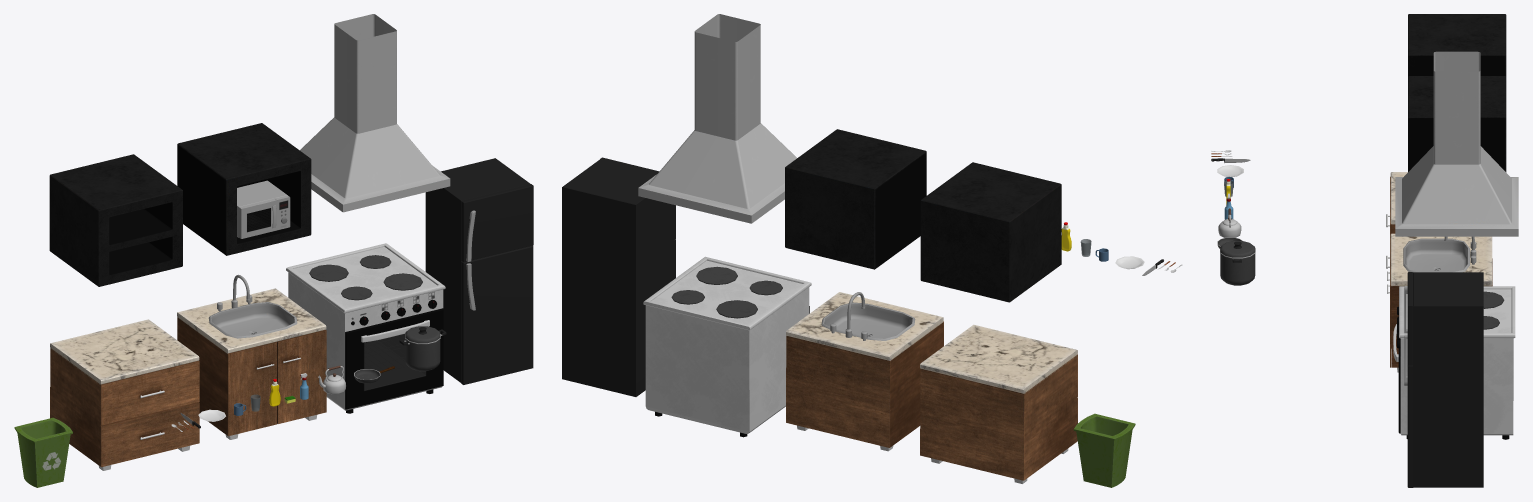
Rendered from CocinaPack.glb.
3 views of the same model, side by side, from view 1: azimuth 30°, elevation 25°; view 2: azimuth 150°, elevation 25°; view 3: azimuth 270°, elevation 25° (orthographic). The views are drawn at different scales.
Parts seen in each view (by area): view 1: Heladera, Mesada, Horno, MesadaConBacha, ExtractorHorno, Estante1, Estante, TachoBasura, Microondas, Olla; view 2: Horno, Heladera, Mesada, MesadaConBacha, ExtractorHorno, Estante1, Estante, TachoBasura; view 3: Heladera, ExtractorHorno, Horno, Estante1, MesadaConBacha, Estante, Olla, Mesada, Pava.
Part boxes in pixels (x1,y1,x2,y2): Heladera: (425, 158, 533, 384); Mesada: (50, 319, 199, 470); Horno: (286, 243, 445, 413); MesadaConBacha: (177, 274, 326, 439); ExtractorHorno: (300, 14, 450, 212); Estante1: (49, 154, 182, 286); Estante: (177, 123, 311, 255); TachoBasura: (14, 417, 72, 487); Microondas: (237, 180, 290, 238); Olla: (399, 326, 446, 371); Horno: (643, 256, 811, 437); Heladera: (562, 157, 675, 396); Mesada: (920, 324, 1077, 483); MesadaConBacha: (786, 292, 943, 451); ExtractorHorno: (638, 14, 796, 223); Estante1: (920, 162, 1061, 302); Estante: (785, 129, 926, 269); TachoBasura: (1073, 413, 1135, 487); Heladera: (1404, 272, 1483, 487); ExtractorHorno: (1395, 51, 1518, 236); Horno: (1393, 286, 1515, 439); Estante1: (1408, 14, 1506, 76); MesadaConBacha: (1387, 233, 1492, 372); Estante: (1408, 76, 1506, 171); Olla: (1220, 240, 1255, 285); Mesada: (1386, 172, 1492, 286); Pava: (1218, 208, 1241, 237).
Size of the model in its own units: 5.14 by 3.48 by 2.72.
Materials: 4 (4 with a texture image).
